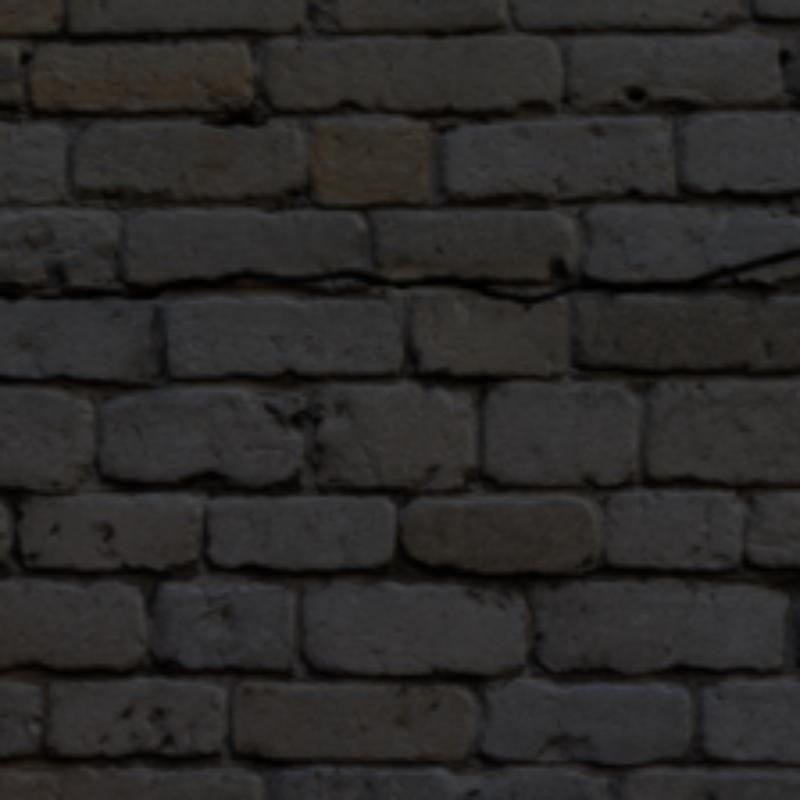pothole: (0, 250, 796, 300)
